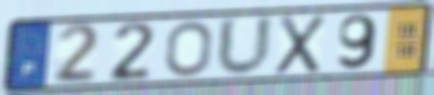2: (52, 21, 102, 87), (107, 20, 157, 84)
9: (335, 12, 379, 71)
O: (164, 20, 214, 78)
U: (214, 13, 276, 79)
X: (272, 13, 329, 78)
